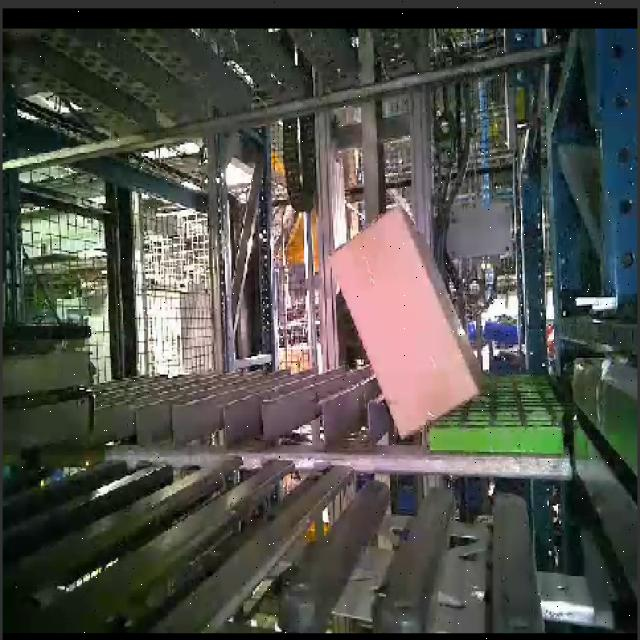box: (317, 200, 487, 443)
